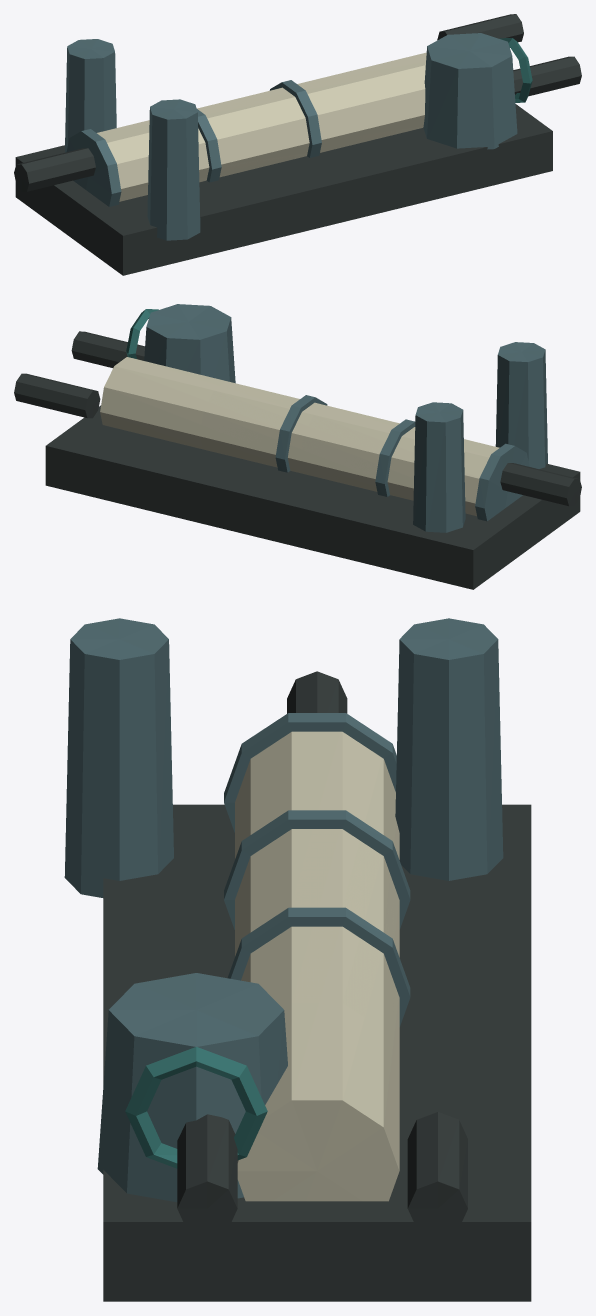
File: desalination-plant.source.glb
The picture shows the model from 3 angles, top to bottom: view 1: azimuth 30°, elevation 25°; view 2: azimuth 150°, elevation 25°; view 3: azimuth 270°, elevation 25°; orthographic projection. The views are drawn at different scales.
Visible parts, largest first — view 1: desalination-plant-skid-mesh, desalination-plant-feed-pump-mesh, desalination-plant-pressure-vessel-1-mesh, desalination-plant-pressure-vessel-2-mesh, desalination-plant-filter-1-mesh, desalination-plant-pressure-vessel-3-mesh, desalination-plant-filter-2-mesh, desalination-plant-intake-pipe-mesh, desalination-plant-vessel-band-1-mesh, desalination-plant-clean-water-pipe-mesh, desalination-plant-brine-pipe-mesh, desalination-plant-vessel-band-3-mesh (+2 smaller); view 2: desalination-plant-skid-mesh, desalination-plant-pressure-vessel-3-mesh, desalination-plant-pressure-vessel-2-mesh, desalination-plant-pressure-vessel-1-mesh, desalination-plant-filter-2-mesh, desalination-plant-feed-pump-mesh, desalination-plant-filter-1-mesh, desalination-plant-brine-pipe-mesh, desalination-plant-intake-pipe-mesh, desalination-plant-vessel-band-1-mesh, desalination-plant-clean-water-pipe-mesh, desalination-plant-vessel-band-3-mesh (+2 smaller); view 3: desalination-plant-skid-mesh, desalination-plant-pressure-vessel-3-mesh, desalination-plant-filter-1-mesh, desalination-plant-filter-2-mesh, desalination-plant-feed-pump-mesh, desalination-plant-pressure-vessel-1-mesh, desalination-plant-pressure-vessel-2-mesh, desalination-plant-brine-pipe-mesh, desalination-plant-clean-water-pipe-mesh, desalination-plant-valve-wheel-mesh, desalination-plant-vessel-band-2-mesh, desalination-plant-vessel-band-3-mesh (+2 smaller).
Part boxes in pixels (x1,y1,x2,y2): desalination-plant-skid-mesh: [15, 104, 552, 275]; desalination-plant-feed-pump-mesh: [423, 33, 517, 149]; desalination-plant-pressure-vessel-1-mesh: [97, 90, 297, 201]; desalination-plant-pressure-vessel-2-mesh: [197, 66, 397, 171]; desalination-plant-filter-1-mesh: [147, 99, 200, 240]; desalination-plant-pressure-vessel-3-mesh: [300, 52, 426, 140]; desalination-plant-filter-2-mesh: [65, 39, 116, 152]; desalination-plant-intake-pipe-mesh: [14, 148, 95, 191]; desalination-plant-vessel-band-1-mesh: [66, 129, 121, 206]; desalination-plant-clean-water-pipe-mesh: [513, 56, 581, 96]; desalination-plant-brine-pipe-mesh: [437, 14, 523, 42]; desalination-plant-vessel-band-3-mesh: [269, 80, 321, 157]; desalination-plant-skid-mesh: [45, 405, 580, 589]; desalination-plant-pressure-vessel-3-mesh: [100, 357, 299, 448]; desalination-plant-pressure-vessel-2-mesh: [200, 381, 388, 483]; desalination-plant-pressure-vessel-1-mesh: [300, 405, 499, 516]; desalination-plant-filter-2-mesh: [413, 402, 465, 532]; desalination-plant-feed-pump-mesh: [144, 304, 235, 383]; desalination-plant-filter-1-mesh: [495, 342, 547, 468]; desalination-plant-brine-pipe-mesh: [14, 373, 100, 418]; desalination-plant-intake-pipe-mesh: [500, 463, 581, 506]; desalination-plant-vessel-band-1-mesh: [475, 443, 529, 521]; desalination-plant-clean-water-pipe-mesh: [71, 331, 144, 367]; desalination-plant-vessel-band-3-mesh: [275, 395, 327, 472]; desalination-plant-skid-mesh: [103, 804, 531, 1301]; desalination-plant-pressure-vessel-3-mesh: [237, 926, 399, 1201]; desalination-plant-filter-1-mesh: [64, 618, 173, 897]; desalination-plant-filter-2-mesh: [395, 618, 503, 880]; desalination-plant-feed-pump-mesh: [97, 973, 287, 1202]; desalination-plant-pressure-vessel-1-mesh: [235, 731, 399, 957]; desalination-plant-pressure-vessel-2-mesh: [235, 829, 399, 1073]; desalination-plant-brine-pipe-mesh: [407, 1112, 467, 1235]; desalination-plant-clean-water-pipe-mesh: [177, 1114, 237, 1235]; desalination-plant-valve-wheel-mesh: [125, 1047, 267, 1168]; desalination-plant-vessel-band-2-mesh: [224, 810, 410, 929]; desalination-plant-vessel-band-3-mesh: [227, 907, 410, 1026].
Size of the model in its own units: 2.2 by 0.6 by 0.85.
